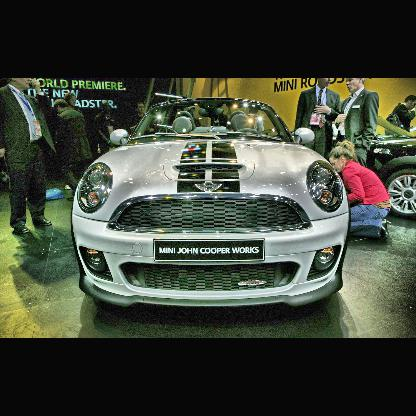MINI Cooper Roadster Convertible 2012: (73, 98, 350, 309)
